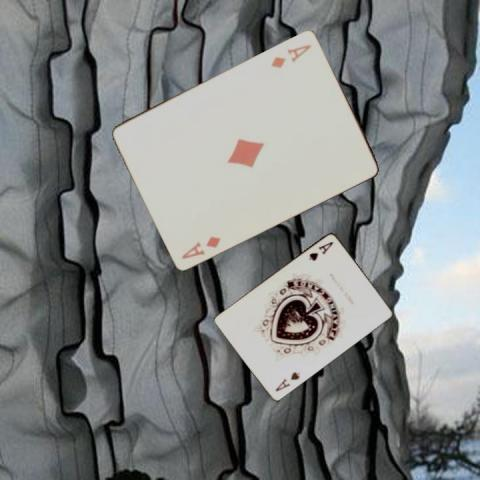Ad: (268, 41, 313, 69), (178, 232, 222, 260)
As: (306, 238, 335, 262), (273, 368, 301, 392)
